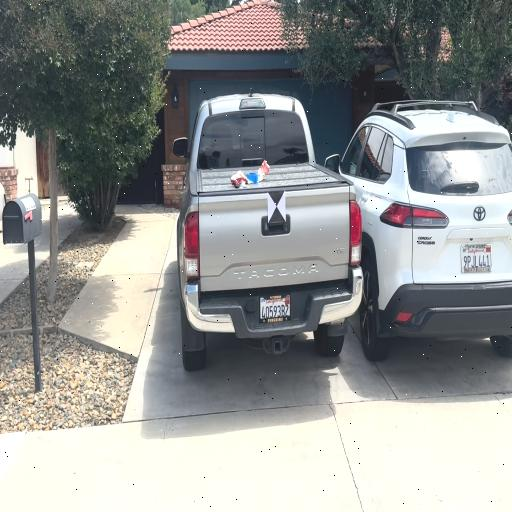target: (268, 191, 286, 223)
